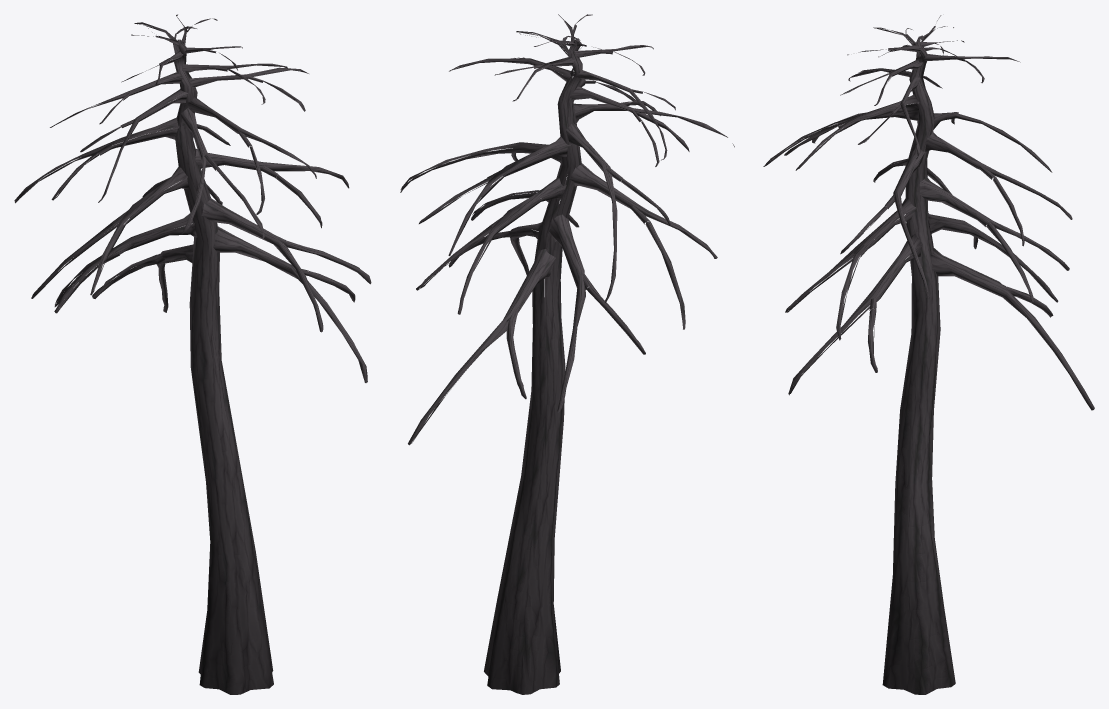
Rendered from dead_pine.glb.
3 renders of one model, left to right at view 1: azimuth 30°, elevation 25°; view 2: azimuth 150°, elevation 25°; view 3: azimuth 270°, elevation 25°, orthographic. The views are drawn at different scales.
Parts seen in each view (by area): view 1: DeadTree_3; view 2: DeadTree_3; view 3: DeadTree_3.
Boxes of the visible parts, bbox=[...] form: DeadTree_3: bbox=[14, 14, 371, 694]; DeadTree_3: bbox=[400, 14, 734, 694]; DeadTree_3: bbox=[763, 15, 1094, 694].
Size of the model in its own units: 6.36 by 13.27 by 6.42.
1 material, 1 textured.
